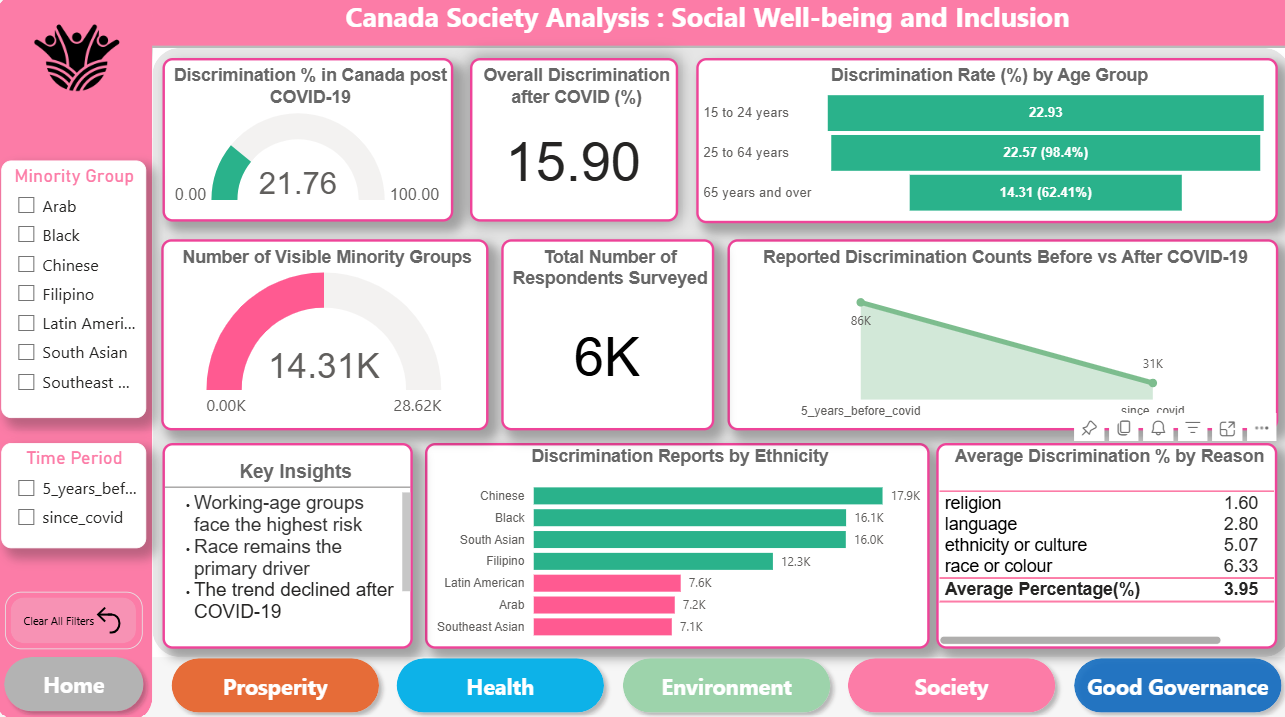

The page's visual inventory and layout, read from the dashboard file:
{"tool":"powerbi","page":{"name":"Society","canvas":[1280,720],"ordinal":4},"visuals":[{"type":"textbox","box":[128.9,0,1150.7,51.9],"z":0},{"type":"shape","box":[155.7,54.3,1124.3,601.4],"z":1000},{"type":"shape","title":"Society","box":[0,0,155.6,720.4],"z":2000},{"type":"barChart","title":"Discrimination Reports by Ethnicity","fields":{"Y":["Sum(society_cleaned.value)"],"Category":["society_cleaned.visible_minority"]},"box":[424.3,444.3,498.6,202.9],"z":3000},{"type":"gauge","title":"Discrimination % in Canada post COVID-19","fields":{"Y":["Avg(society_cleaned.value)"]},"box":[165.7,64.3,287.1,161.4],"z":4000},{"type":"gauge","title":"Number of Visible Minority Groups","fields":{"Y":["Sum(society_cleaned.value)"]},"box":[164.3,242.9,322.9,188.6],"z":5000},{"type":"lineChart","title":"Reported Discrimination Counts Before vs After COVID-19","fields":{"Category":["society_cleaned.time_period"],"Y":["Sum(society_cleaned.value)"]},"box":[722.9,242.9,544.3,188.6],"z":6000},{"type":"funnel","title":"Discrimination Rate (%) by Age Group","fields":{"Category":["society_cleaned.selected_sociodemographic_characteristics"],"Y":["Avg(society_cleaned.value)"]},"box":[692.9,64.3,574.3,162.9],"z":7000},{"type":"tableEx","title":"Average Discrimination % by Reason","fields":{"Values":["society_cleaned.indicator_detail","society_cleaned.Average Discrimination % by Reason"]},"box":[930,444.3,337.1,202.9],"z":8000},{"type":"cardVisual","title":"Total Number of Respondents Surveyed","fields":{"Data":["CountNonNull(society_cleaned.value)"]},"box":[500,242.9,210,188.6],"z":9000},{"type":"cardVisual","title":"Overall Discrimination after COVID (%)","fields":{"Data":["society_cleaned.Overall Discrimination % Since COVID"]},"box":[468.6,64.3,205.7,161.4],"z":10000},{"type":"actionButton","title":"Clear All Filters","box":[10,591.4,135.7,57.1],"z":11000},{"type":"textbox","title":"Key Insights ","box":[165.7,444.3,247.1,202.9],"z":12000},{"type":"image","box":[4.2,15.4,148.6,98.1],"z":13000},{"type":"actionButton","box":[165.4,648.5,222.8,71.5],"z":14000},{"type":"actionButton","box":[388.2,648.5,222.8,71.5],"z":15000},{"type":"actionButton","box":[611.1,648.5,222.8,71.5],"z":16000},{"type":"actionButton","box":[833.9,648.5,222.8,71.5],"z":17000},{"type":"actionButton","box":[1056.8,648.5,222.8,71.5],"z":18000},{"type":"actionButton","box":[0,647.5,155.6,71.5],"z":19000},{"type":"slicer","title":"Minority Group","fields":{"Values":["Society Page Dataset.visible_minority"]},"box":[5.7,165.7,142.9,254.3],"z":20000},{"type":"slicer","title":"Time Period","fields":{"Values":["Society Page Dataset.time_period"]},"box":[5.7,444.3,142.9,104.3],"z":21000}]}

Visuals, with their boxes in screenshot pixels (x1, y1, x2, y2), scaled from the page's 1280x720 canvas onto the 1285x717 screenshot:
textbox: [129, 0, 1284, 52]
shape: [156, 54, 1284, 653]
"Society" shape: [0, 0, 156, 716]
"Discrimination Reports by Ethnicity" barChart: [426, 442, 927, 645]
"Discrimination % in Canada post COVID-19" gauge: [166, 64, 455, 225]
"Number of Visible Minority Groups" gauge: [165, 242, 489, 430]
"Reported Discrimination Counts Before vs After COVID-19" lineChart: [726, 242, 1272, 430]
"Discrimination Rate (%) by Age Group" funnel: [696, 64, 1272, 226]
"Average Discrimination % by Reason" tableEx: [934, 442, 1272, 645]
"Total Number of Respondents Surveyed" cardVisual: [502, 242, 713, 430]
"Overall Discrimination after COVID (%)" cardVisual: [470, 64, 677, 225]
"Clear All Filters" actionButton: [10, 589, 146, 646]
"Key Insights " textbox: [166, 442, 414, 645]
image: [4, 15, 153, 113]
actionButton: [166, 646, 390, 716]
actionButton: [390, 646, 613, 716]
actionButton: [613, 646, 837, 716]
actionButton: [837, 646, 1061, 716]
actionButton: [1061, 646, 1284, 716]
actionButton: [0, 645, 156, 716]
"Minority Group" slicer: [6, 165, 149, 418]
"Time Period" slicer: [6, 442, 149, 546]
